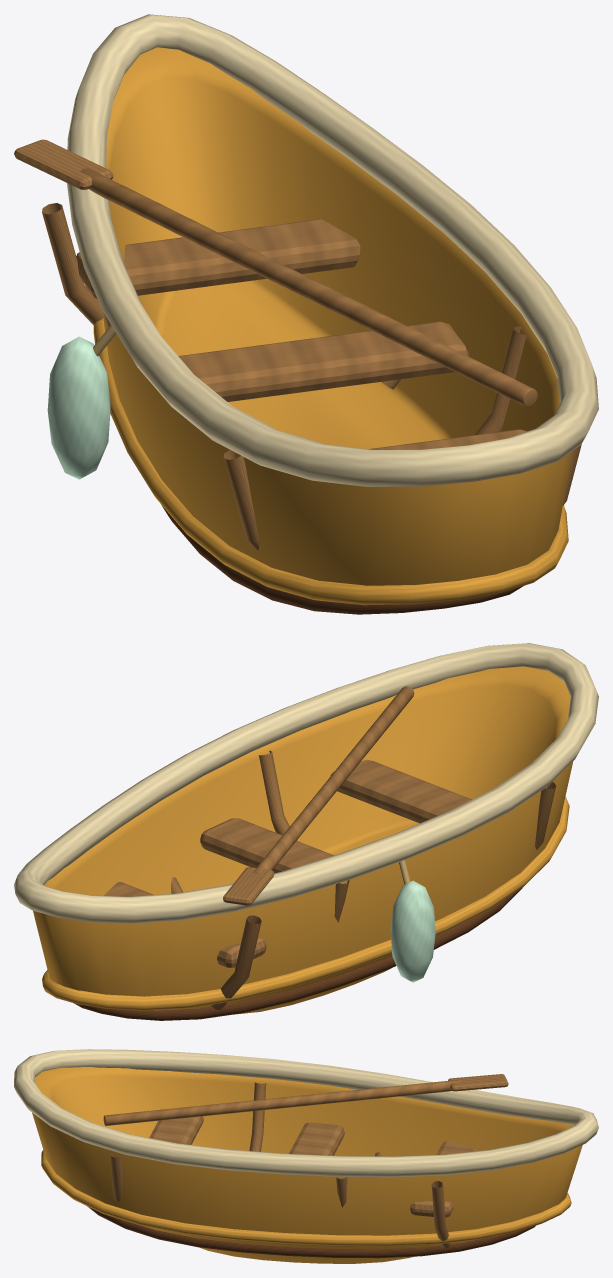
The model's file is Boat_Dinghy.fbx.
3 views of the same model, one above another, from view 1: azimuth 30°, elevation 25°; view 2: azimuth 150°, elevation 25°; view 3: azimuth 270°, elevation 25° (orthographic). The views are drawn at different scales.
Visible parts, largest first — view 1: Boat_Dinghy; view 2: Boat_Dinghy; view 3: Boat_Dinghy.
Boxes of the visible parts, box(x1,y1,x2,y2) form: Boat_Dinghy: box(14, 14, 598, 614); Boat_Dinghy: box(14, 643, 598, 1020); Boat_Dinghy: box(14, 1049, 598, 1263).
Bounding box in the file's own units: 261 × 547 × 152.
